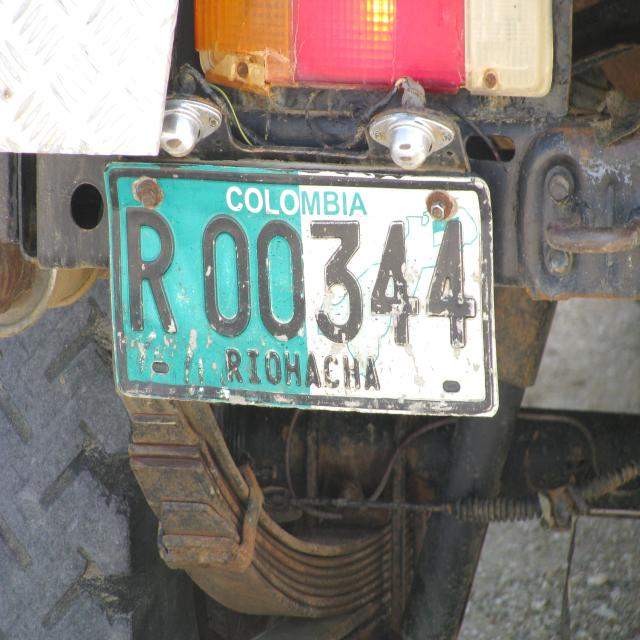placa: (102, 158, 501, 420)
